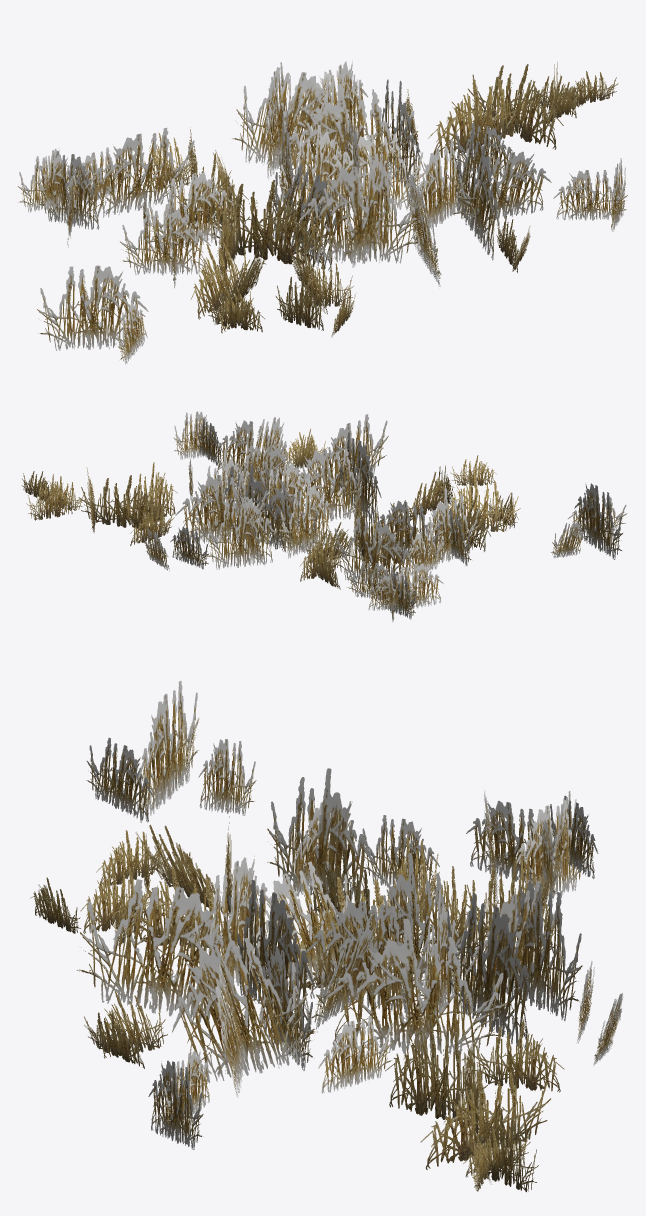
The model's file is DN_grass03c.FBX.
3 renders of one model, top to bottom at view 1: azimuth 30°, elevation 25°; view 2: azimuth 150°, elevation 25°; view 3: azimuth 270°, elevation 25°, orthographic. The views are drawn at different scales.
Visible parts, largest first — view 1: DN_grass03c; view 2: DN_grass03c; view 3: DN_grass03c.
Part boxes in pixels (x1,y1,x2,y2): DN_grass03c: (17,60,627,364); DN_grass03c: (21,411,627,621); DN_grass03c: (30,681,623,1192).
Size of the model in its own units: 267 by 46.48 by 157.
Materials: 2 (2 with a texture image).
